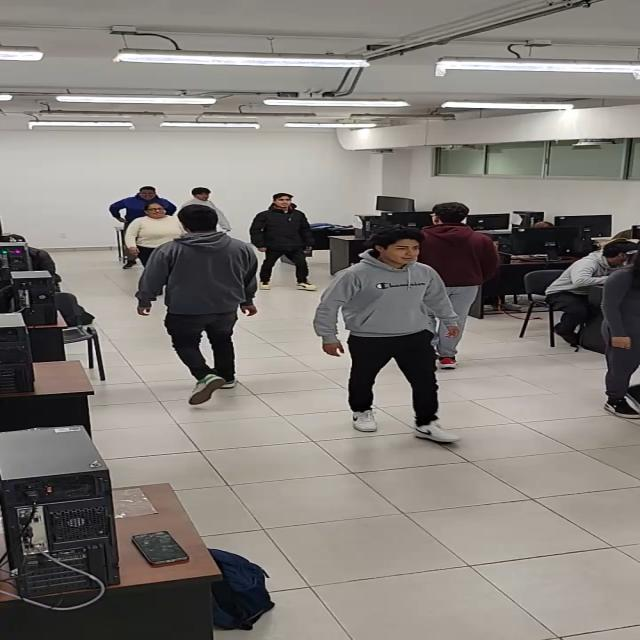Persona: (318, 228, 462, 447), (143, 204, 260, 404), (426, 201, 502, 317), (262, 192, 318, 283), (106, 181, 178, 214), (125, 205, 182, 241), (188, 183, 228, 212)
